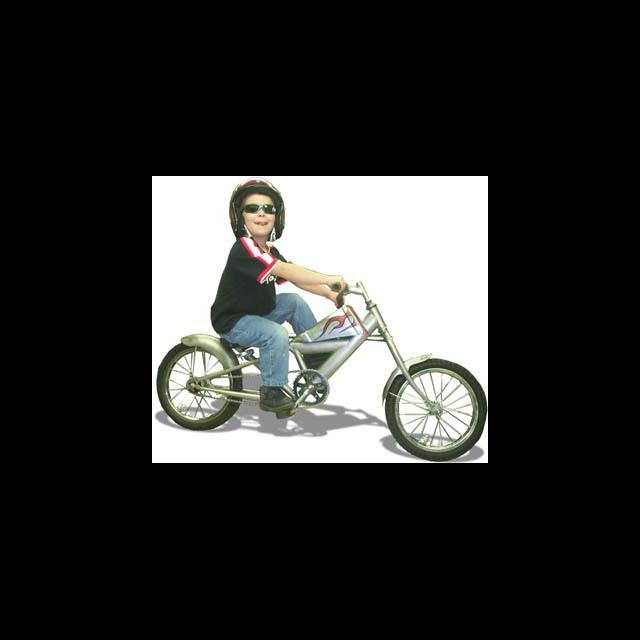Hardhat: (229, 179, 285, 239)
NO-Mask: (241, 214, 276, 235)
NO-Safety Vest: (211, 234, 289, 332)
Person: (209, 178, 348, 411)
